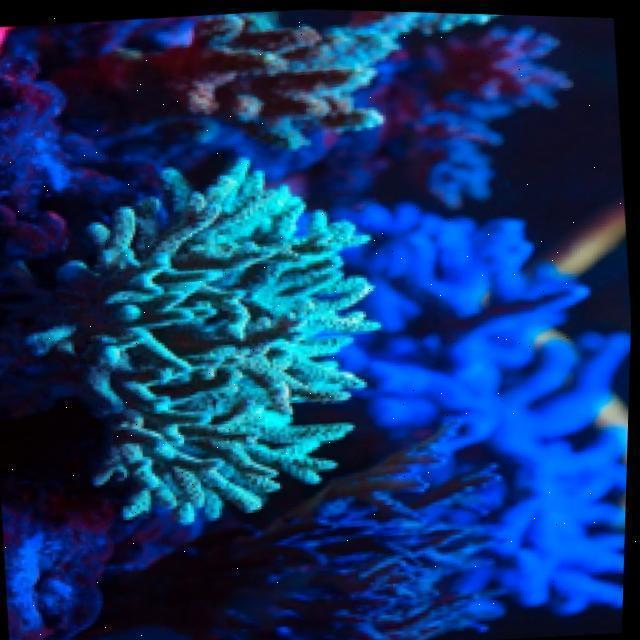Bleached Coral: (34, 159, 404, 531)
Healthy Coral: (66, 17, 406, 169)
